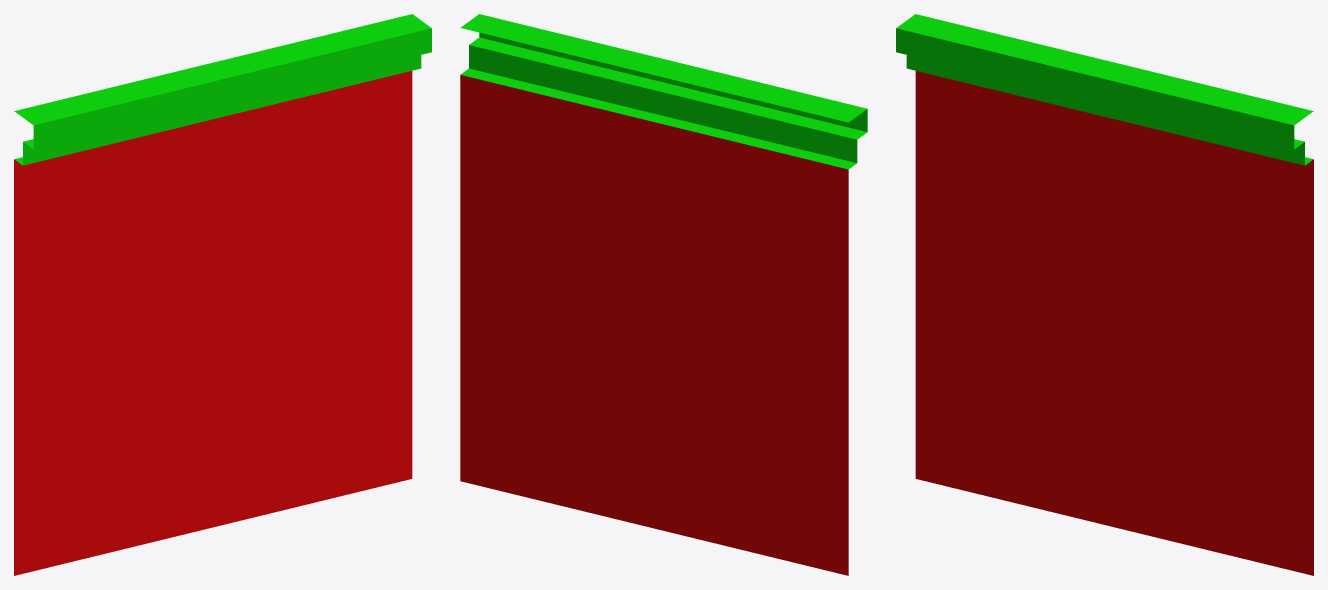
Rendered from Wall.fbx.
3 views of the same model, side by side, from view 1: azimuth 30°, elevation 25°; view 2: azimuth 150°, elevation 25°; view 3: azimuth 330°, elevation 25° (orthographic). The views are drawn at different scales.
Parts seen in each view (by area): view 1: Build_1_Wall; view 2: Build_1_Wall; view 3: Build_1_Wall.
Part boxes in pixels (left/top/right/bottom): Build_1_Wall: left=14, top=14, right=431, bottom=575; Build_1_Wall: left=460, top=14, right=867, bottom=575; Build_1_Wall: left=896, top=14, right=1313, bottom=575.
Bounding box in the file's own units: 260 × 22 × 290.
